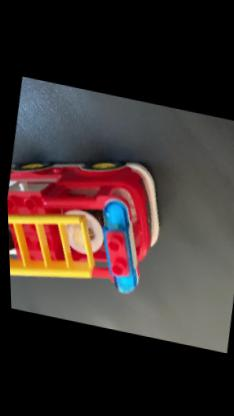lego fire truck: (4, 133, 176, 317)
